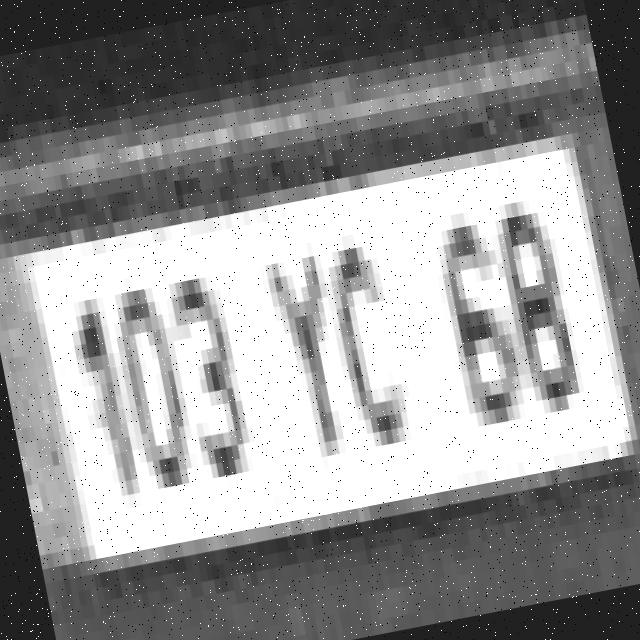Autre: (0, 144, 637, 569)
